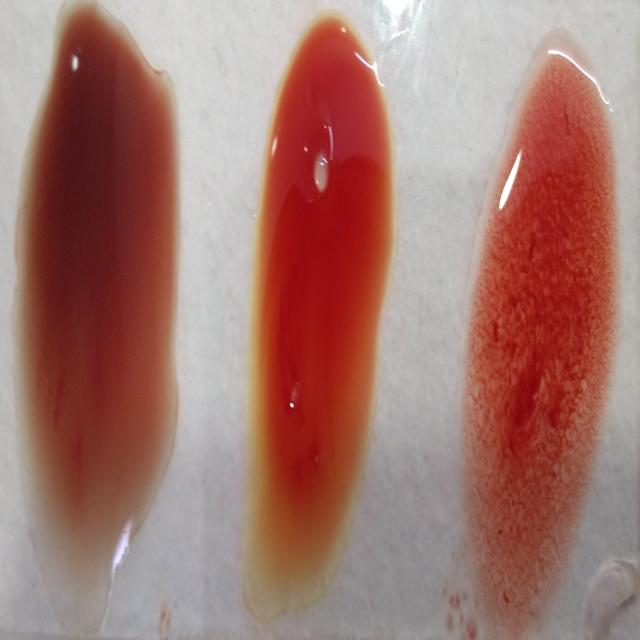D: (466, 60, 612, 604)
